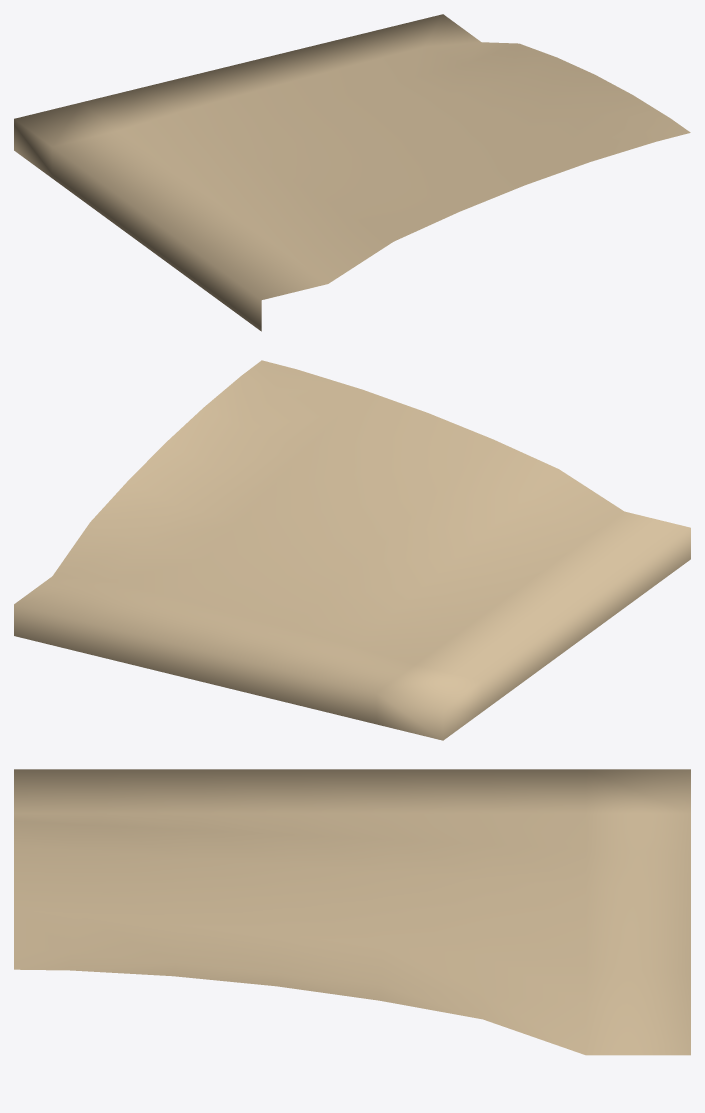
File: Ceiling piece 3.fbx
The picture shows the model from 3 angles, top to bottom: view 1: azimuth 30°, elevation 25°; view 2: azimuth 150°, elevation 25°; view 3: azimuth 270°, elevation 25°; orthographic projection. The views are drawn at different scales.
Visible parts, largest first — view 1: Corner Ceilng.001; view 2: Corner Ceilng.001; view 3: Corner Ceilng.001.
Boxes of the visible parts, x1,y1,x2,y2 form: Corner Ceilng.001: [14, 14, 690, 331]; Corner Ceilng.001: [14, 360, 690, 740]; Corner Ceilng.001: [14, 769, 690, 1055].
Bounding box in the file's own units: 1420 × 298 × 1420.
